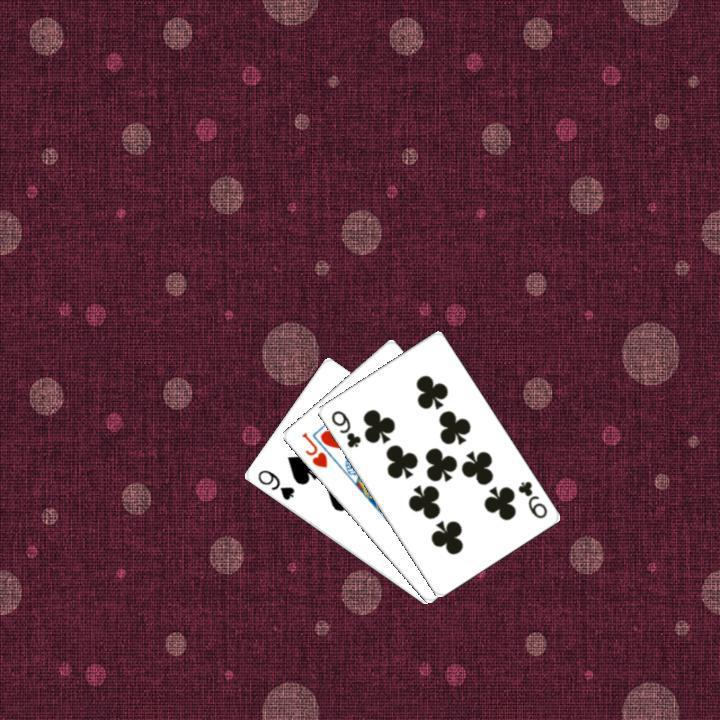9: (326, 406, 363, 450), (513, 476, 549, 521), (253, 465, 296, 502)
J: (297, 428, 329, 470)
